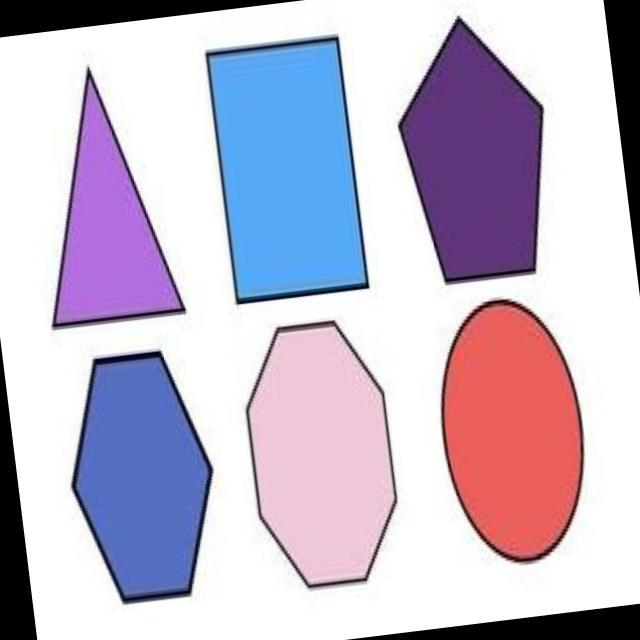circle: (419, 287, 597, 569)
square: (186, 30, 382, 315)
triangle: (27, 59, 201, 344)
